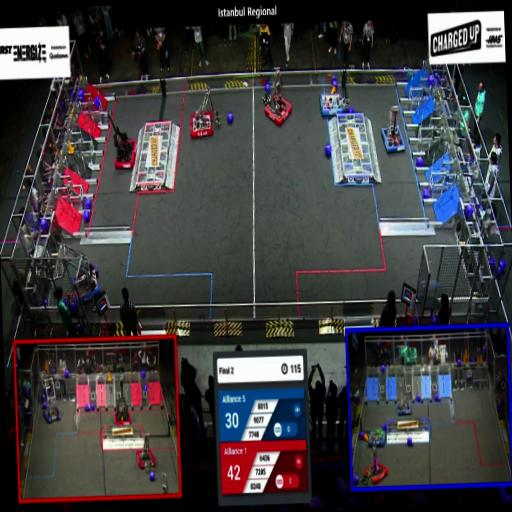robot: (62, 240, 102, 308), (260, 64, 294, 127), (106, 106, 138, 170), (188, 86, 222, 139), (380, 102, 406, 156), (37, 368, 60, 424), (317, 89, 355, 120), (112, 375, 132, 427), (134, 430, 156, 469), (364, 450, 386, 484), (395, 382, 412, 417), (366, 423, 386, 448)
